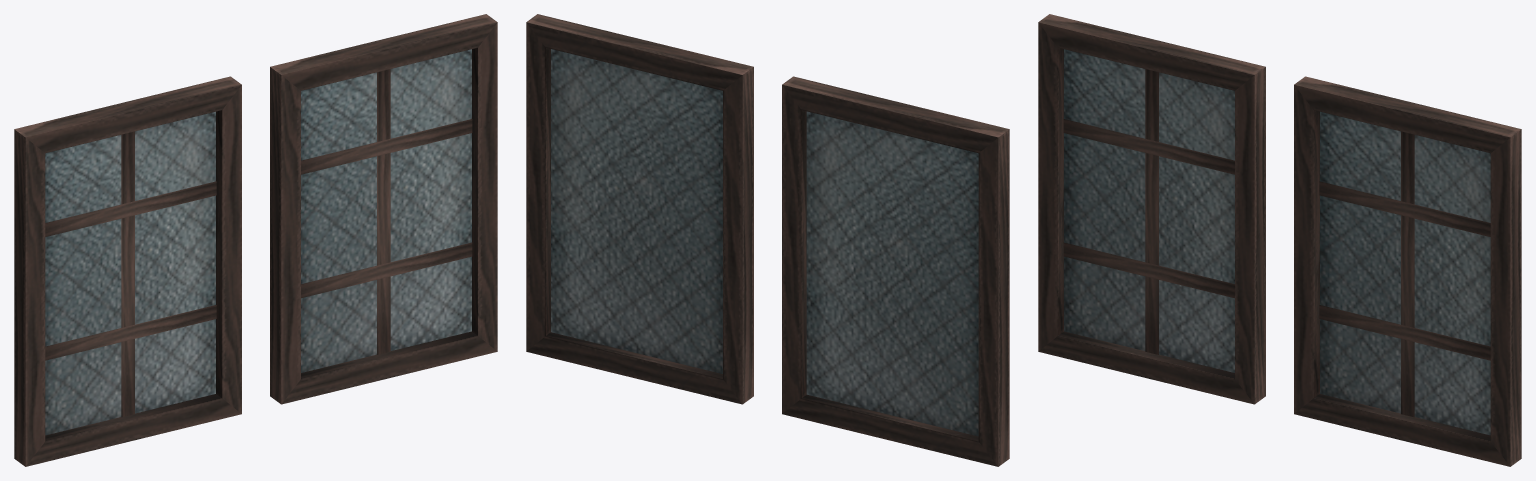
The model's file is Window.Double_3x3.fbx.
3 views of the same model, side by side, from view 1: azimuth 30°, elevation 25°; view 2: azimuth 150°, elevation 25°; view 3: azimuth 330°, elevation 25° (orthographic).
Visible parts, largest first — view 1: Window.Double_3x3; view 2: Window.Double_3x3; view 3: Window.Double_3x3.
Part boxes in pixels (bbox=[...]): Window.Double_3x3: bbox=[14, 14, 497, 466]; Window.Double_3x3: bbox=[526, 14, 1009, 466]; Window.Double_3x3: bbox=[1038, 14, 1521, 466].
Size of the model in its own units: 240 by 160 by 10.
